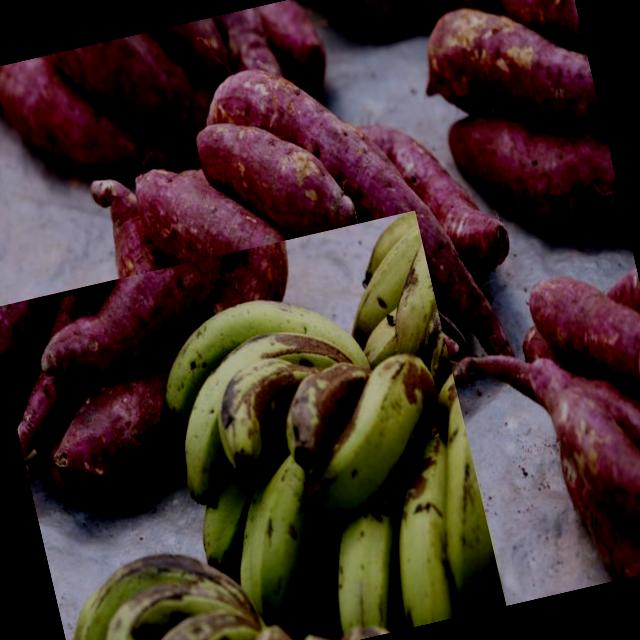Banana: (153, 260, 506, 640), (50, 527, 285, 640)
